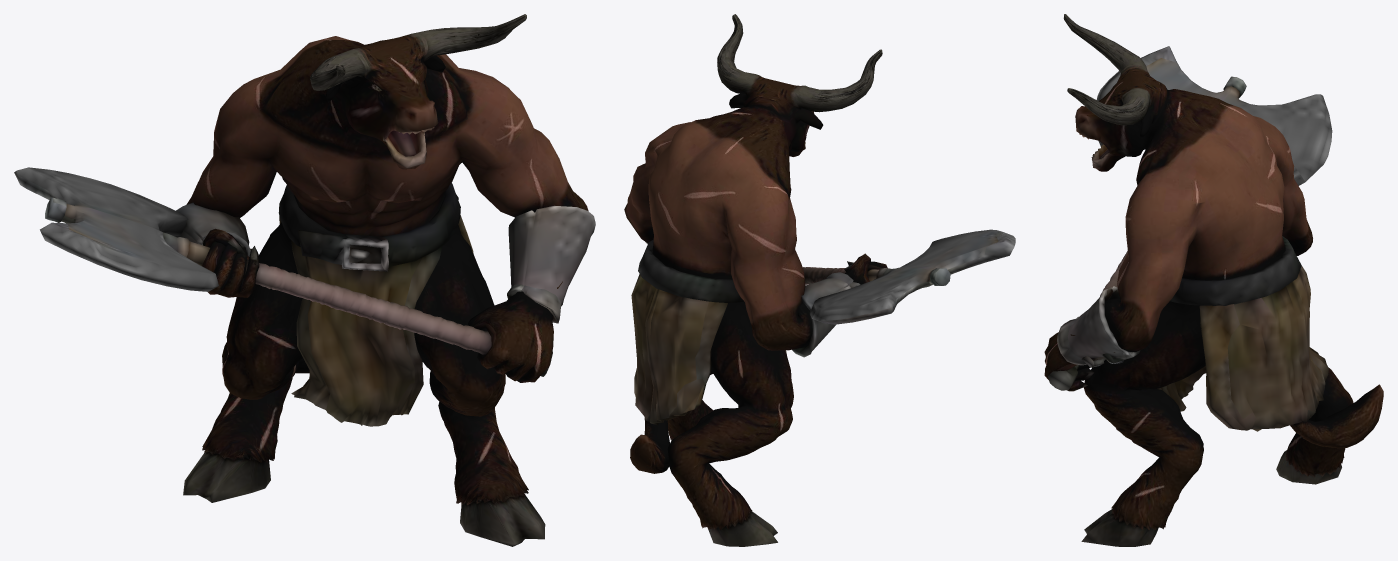
File: MZ4250 - Minotaur Barbarian 6_1.glb
3 views of the same model, side by side, from view 1: azimuth 30°, elevation 25°; view 2: azimuth 150°, elevation 25°; view 3: azimuth 270°, elevation 25° (orthographic). The views are drawn at different scales.
Visible parts, largest first — view 1: Body.002; view 2: Body.002; view 3: Body.002.
Boxes of the visible parts, x1,y1,x2,y2 form: Body.002: [14, 14, 595, 546]; Body.002: [624, 14, 1015, 546]; Body.002: [1044, 14, 1383, 546].
Bounding box in the file's own units: 92.47 × 90.46 × 62.53.
Materials: 2 (2 with a texture image).
